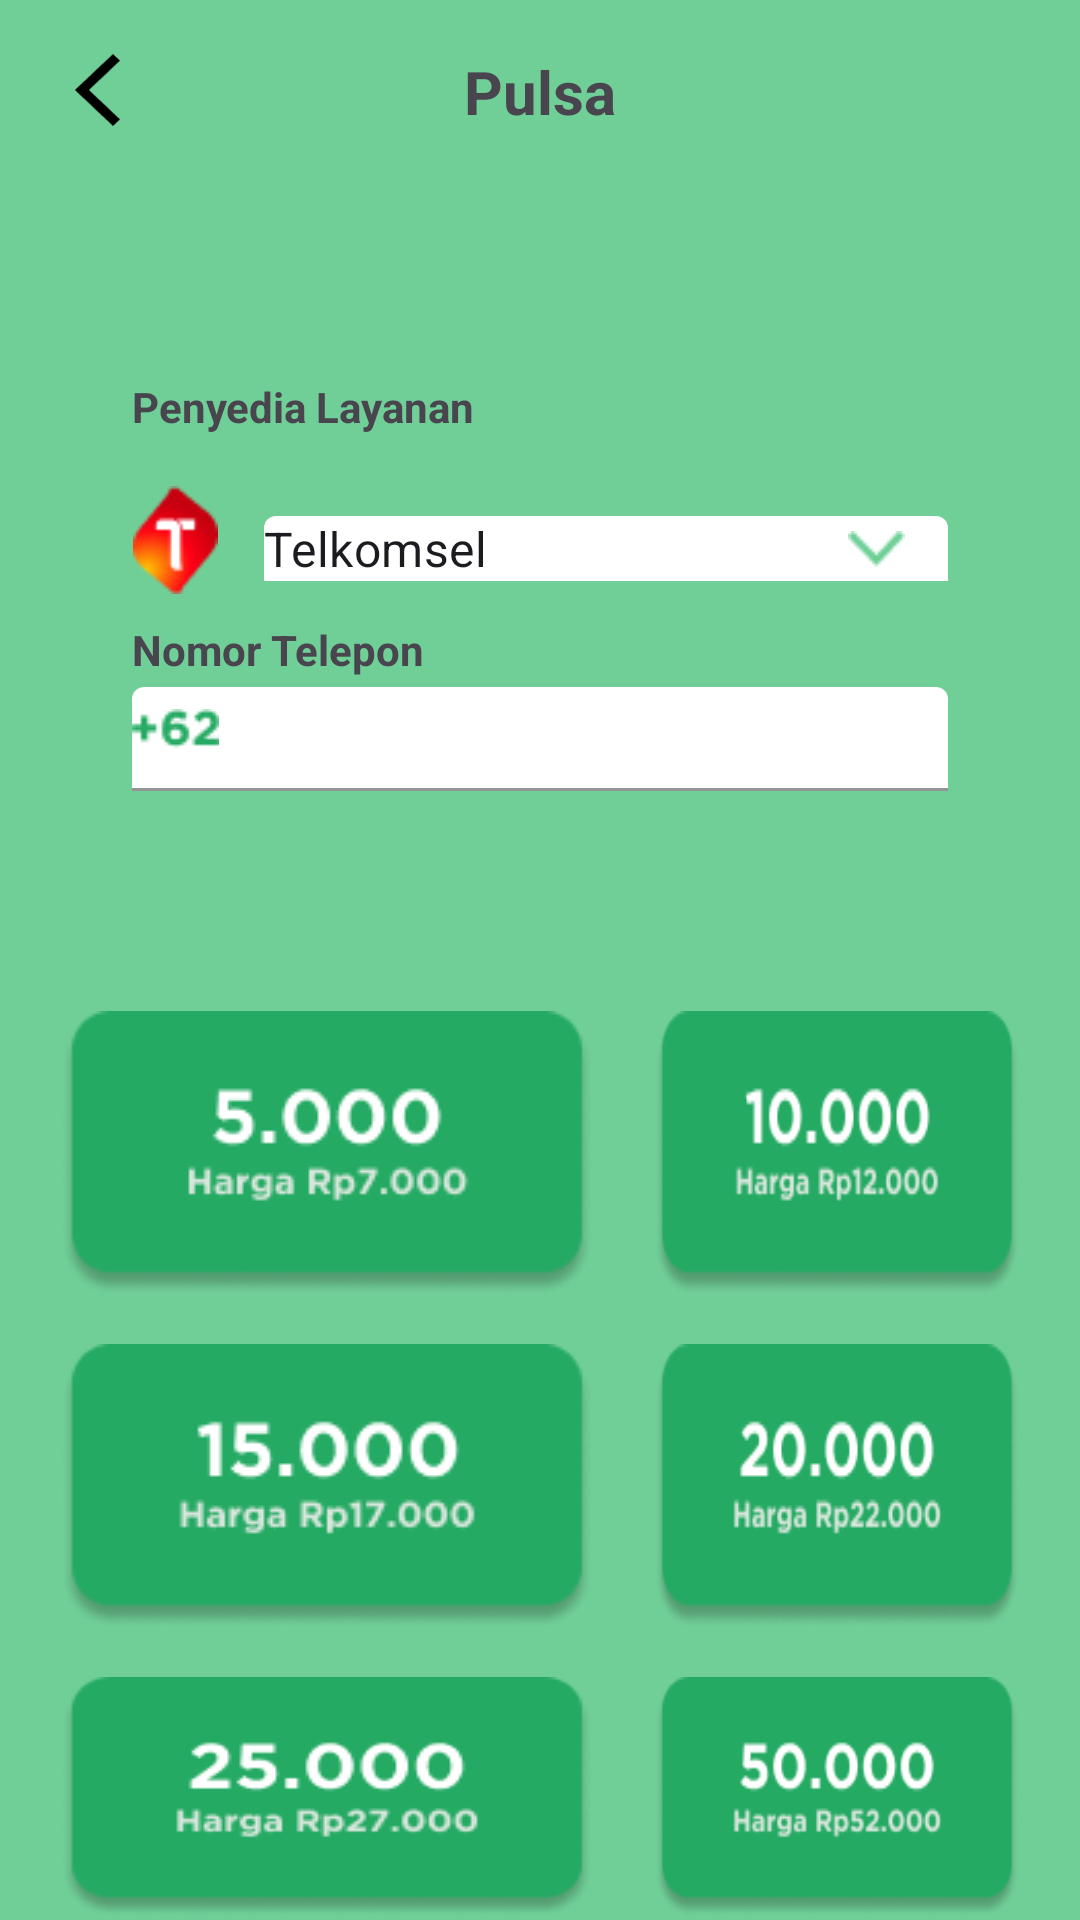

Where icons sit on this 1080 × 1920 app screen, as [x1=x1, y1=y1, x2=x2, y2=y2]:
iconback: [x1=75, y1=54, x2=120, y2=126]
